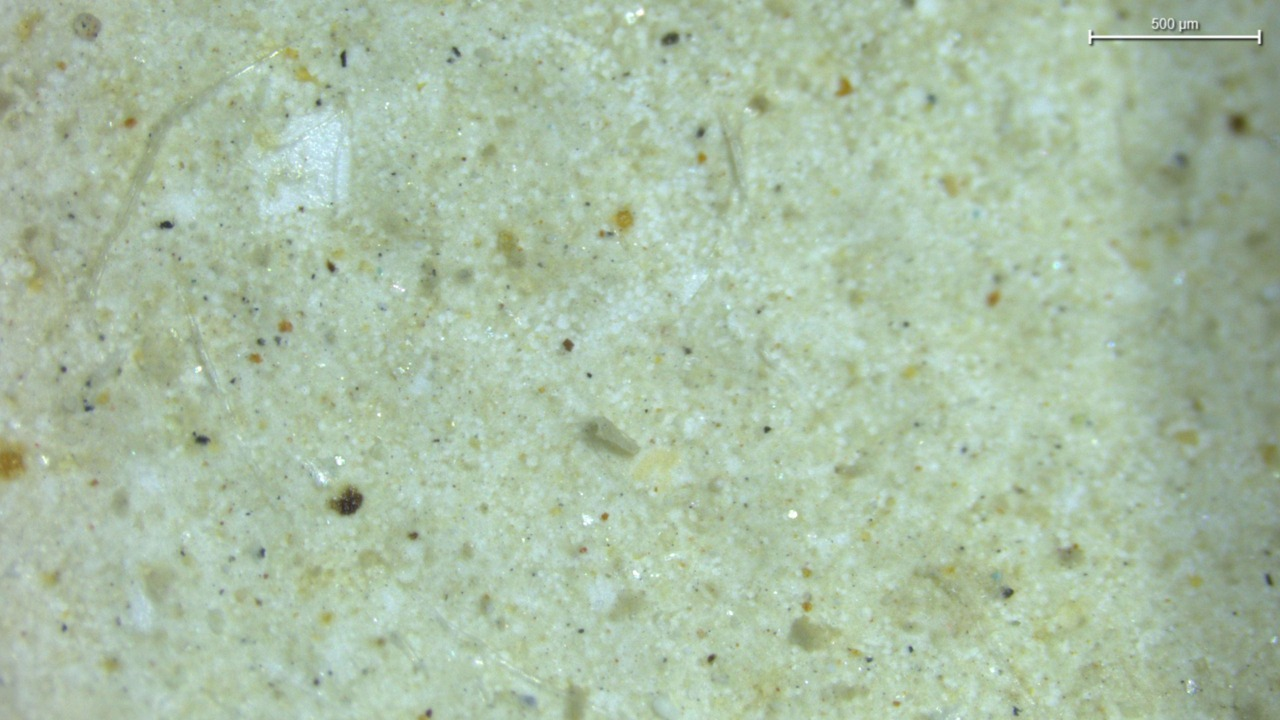microplastic_fragment: (586, 416, 640, 455)
